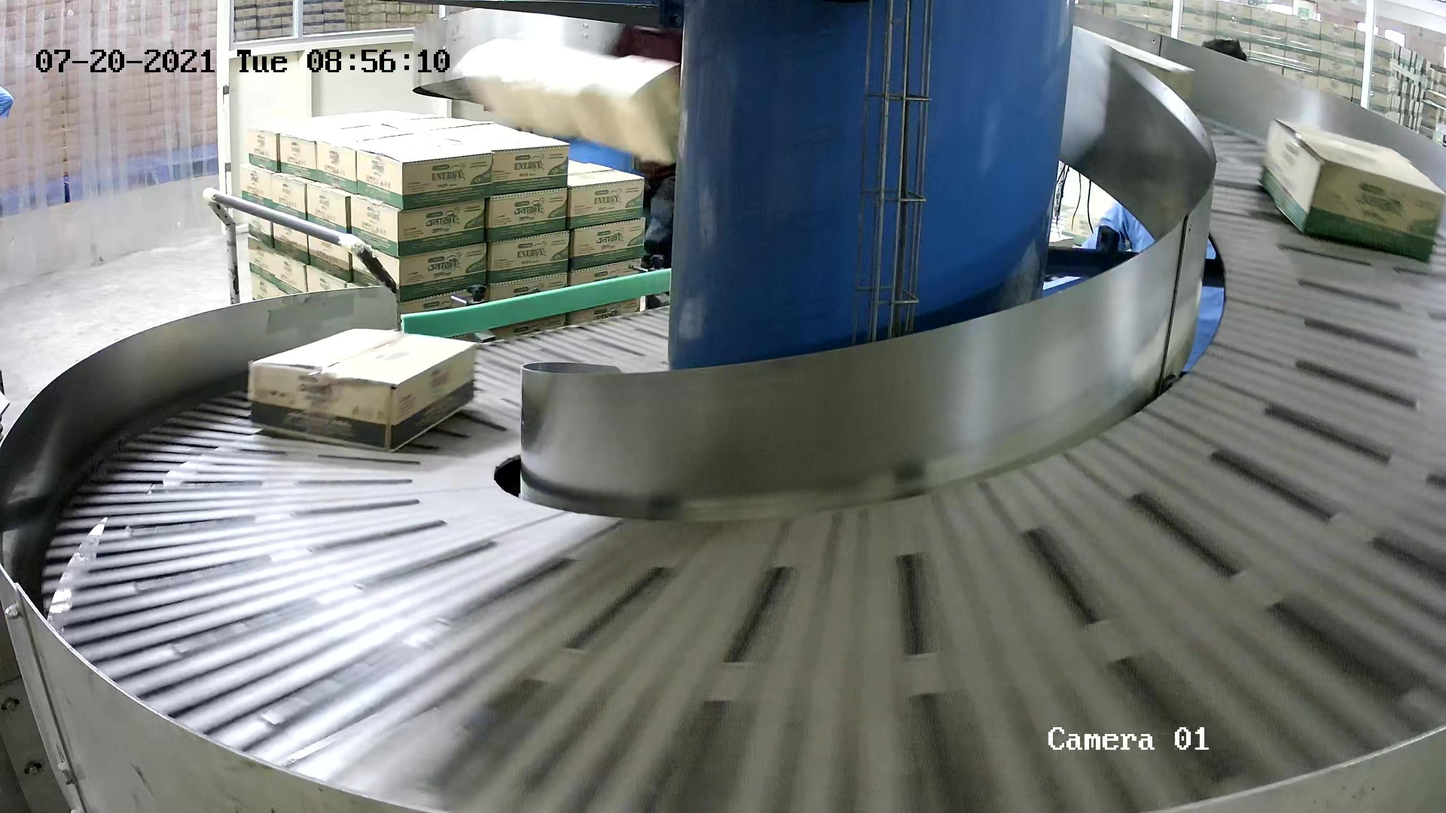Box: (248, 326, 479, 454), (1258, 117, 1446, 265)
